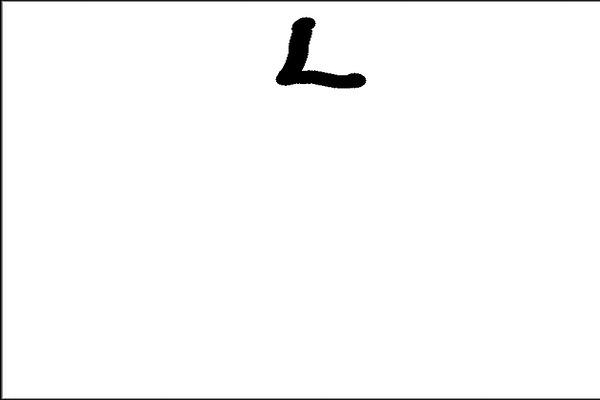L: (266, 10, 370, 92)
